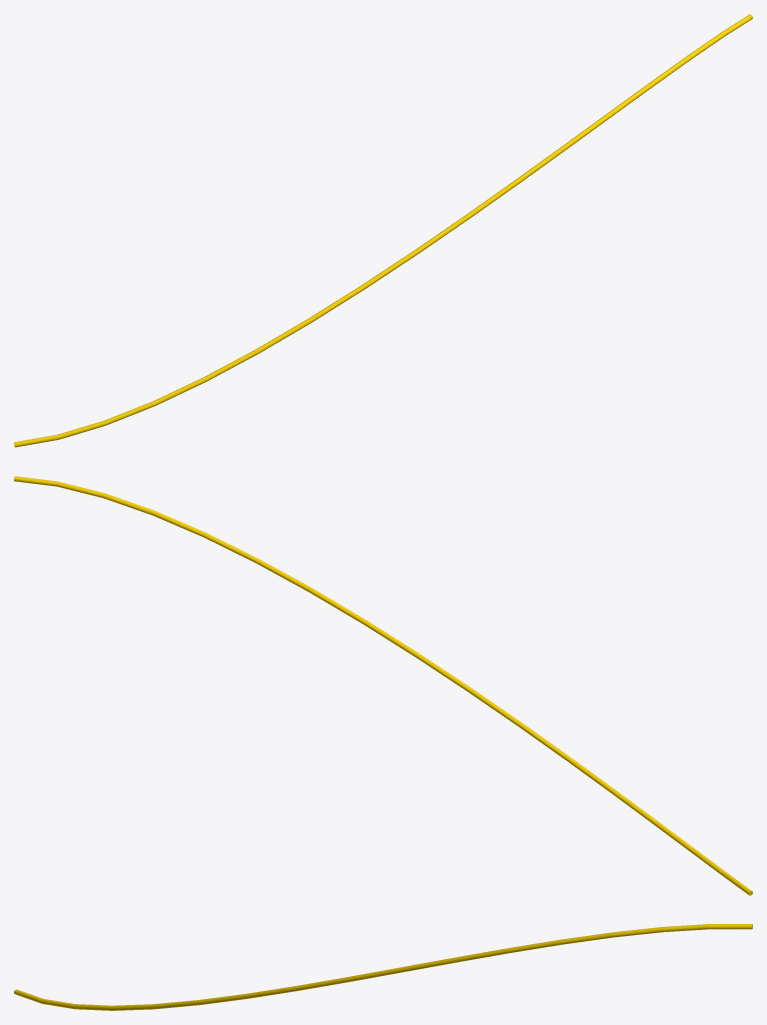
File: Event_421278790_track_23.fbx
The picture shows the model from 3 angles, top to bottom: view 1: azimuth 30°, elevation 25°; view 2: azimuth 150°, elevation 25°; view 3: azimuth 330°, elevation 25°; orthographic projection.
Visible parts, largest first — view 1: Model; view 2: Model; view 3: Model.
Boxes of the visible parts, x1,y1,x2,y2 form: Model: (14, 14, 752, 447); Model: (14, 476, 752, 895); Model: (14, 924, 752, 1010).
Size of the model in its own units: 6.4 by 2.04 by 0.6014.
